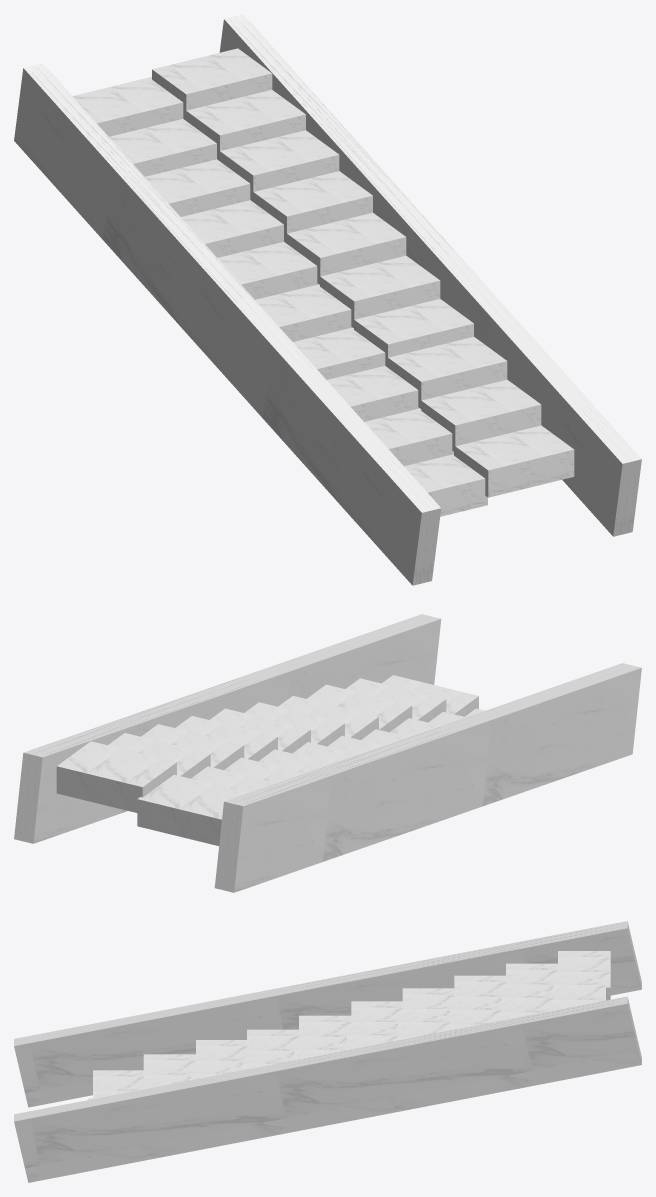
Rendered from GreekSteps.fbx.
The picture shows the model from 3 angles, top to bottom: view 1: azimuth 30°, elevation 25°; view 2: azimuth 150°, elevation 25°; view 3: azimuth 270°, elevation 25°; orthographic projection. The views are drawn at different scales.
Parts seen in each view (by area): view 1: Cube.039; view 2: Cube.039; view 3: Cube.039.
Boxes of the visible parts, box(x1,y1,x2,y2) form: Cube.039: box(14, 14, 641, 585); Cube.039: box(14, 614, 641, 892); Cube.039: box(14, 921, 641, 1182).
Size of the model in its own units: 820 by 830 by 2634.
